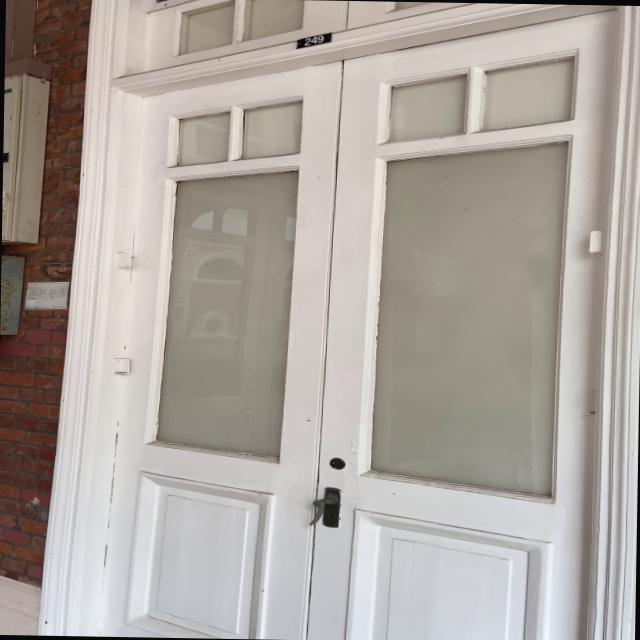room249: (293, 30, 333, 51)
